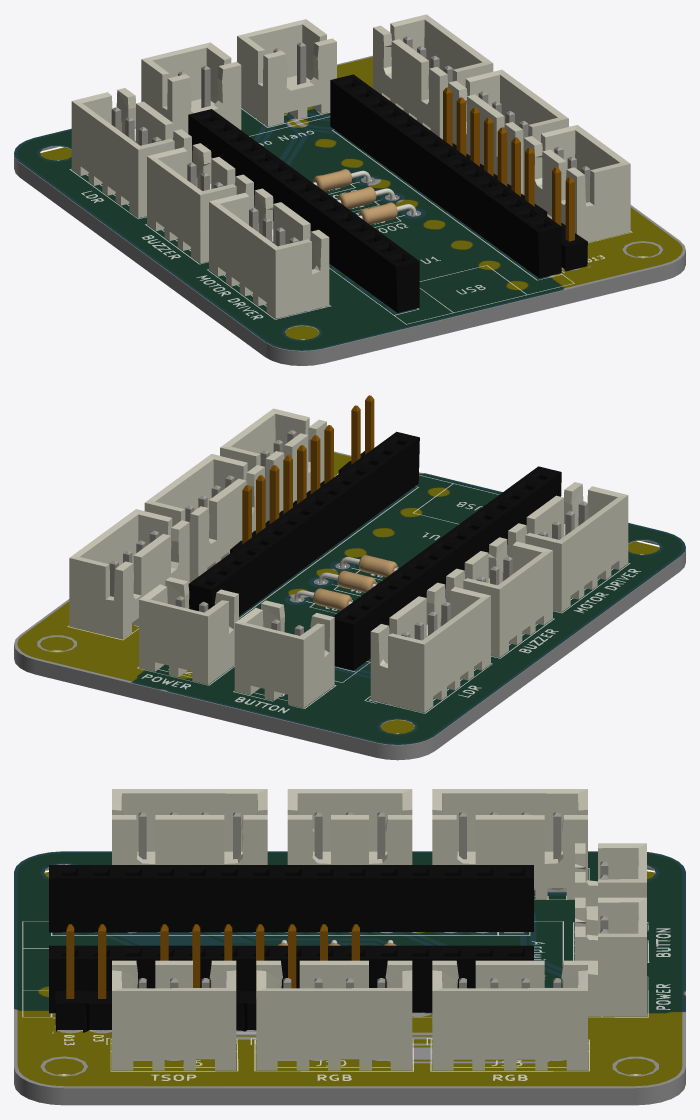
The model's file is expansion_board.glb.
The picture shows the model from 3 angles, top to bottom: view 1: azimuth 30°, elevation 25°; view 2: azimuth 150°, elevation 25°; view 3: azimuth 270°, elevation 25°; orthographic projection. The views are drawn at different scales.
Parts seen in each view (by area): view 1: board.6156, nanoPin, motordriverPin, ldrPin, powerPin, rgbPin2, tsopPin, buzzerPin, button, rgbPin1; view 2: board.6156, nanoPin, ldrPin, rgbPin2, motordriverPin, button, powerPin, rgbPin1, buzzerPin, tsopPin; view 3: board.6156, nanoPin, rgbPin1, rgbPin2, ldrPin, tsopPin, motordriverPin, buzzerPin, powerPin, button.
Part boxes in pixels (bbox=[...]): board.6156: bbox=[14, 55, 685, 365]; nanoPin: bbox=[188, 74, 561, 312]; motordriverPin: bbox=[209, 188, 329, 318]; ldrPin: bbox=[71, 88, 191, 217]; powerPin: bbox=[237, 19, 336, 126]; rgbPin2: bbox=[373, 14, 493, 139]; tsopPin: bbox=[523, 125, 630, 242]; buzzerPin: bbox=[147, 143, 253, 263]; button: bbox=[141, 42, 241, 133]; rgbPin1: bbox=[448, 69, 568, 194]; board.6156: bbox=[14, 395, 685, 760]; nanoPin: bbox=[188, 431, 561, 670]; ldrPin: bbox=[370, 582, 490, 712]; rgbPin2: bbox=[69, 509, 189, 639]; motordriverPin: bbox=[508, 482, 628, 612]; button: bbox=[234, 600, 334, 708]; powerPin: bbox=[139, 577, 238, 684]; rgbPin1: bbox=[144, 454, 264, 582]; buzzerPin: bbox=[446, 537, 552, 657]; tsopPin: bbox=[220, 408, 326, 522]; board.6156: bbox=[14, 851, 685, 1105]; nanoPin: bbox=[49, 865, 533, 1013]; rgbPin1: bbox=[256, 960, 412, 1070]; rgbPin2: bbox=[432, 960, 587, 1070]; ldrPin: bbox=[432, 789, 587, 899]; tsopPin: bbox=[112, 960, 236, 1070]; motordriverPin: bbox=[112, 789, 267, 864]; buzzerPin: bbox=[287, 789, 412, 864]; powerPin: bbox=[575, 897, 646, 1016]; button: bbox=[575, 843, 646, 935].
Bounding box in the file's own units: 0.0445 × 0.0123 × 0.0535.
Materials: 12 (10 with a texture image).
